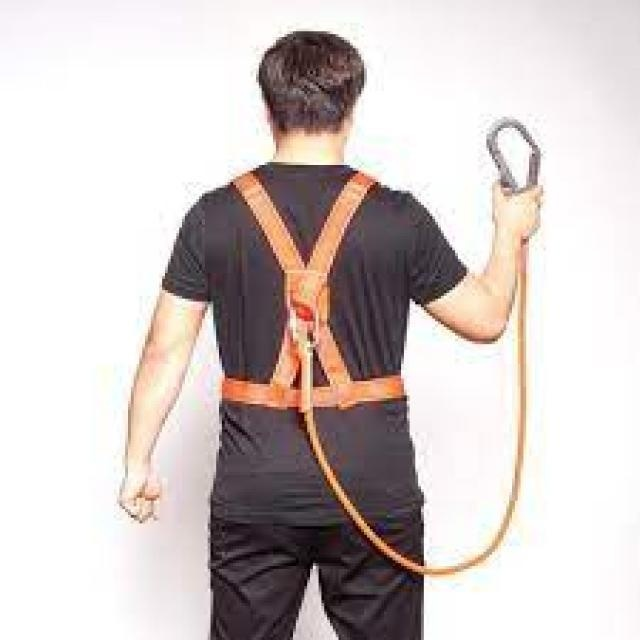Arnes_seguridad: (220, 153, 408, 416)
